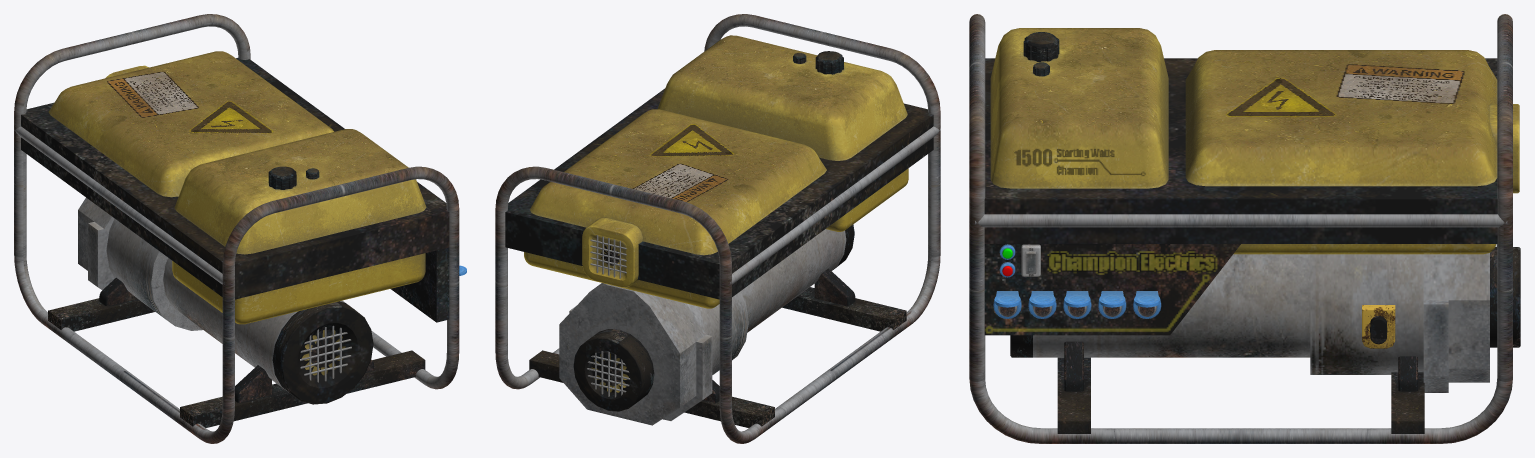
Rendered from Genorator.fbx.
3 views of the same model, side by side, from view 1: azimuth 30°, elevation 25°; view 2: azimuth 150°, elevation 25°; view 3: azimuth 270°, elevation 25° (orthographic). The views are drawn at different scales.
Parts seen in each view (by area): view 1: Genorator:Genorator:pCylinder10; view 2: Genorator:Genorator:pCylinder10; view 3: Genorator:Genorator:pCylinder10.
Part boxes in pixels (x1,y1,x2,y2): Genorator:Genorator:pCylinder10: (14,14,466,443); Genorator:Genorator:pCylinder10: (495,14,940,443); Genorator:Genorator:pCylinder10: (969,14,1520,443).
Size of the model in its own units: 11.13 by 10.42 by 16.52.
Materials: 3 (1 with a texture image).
